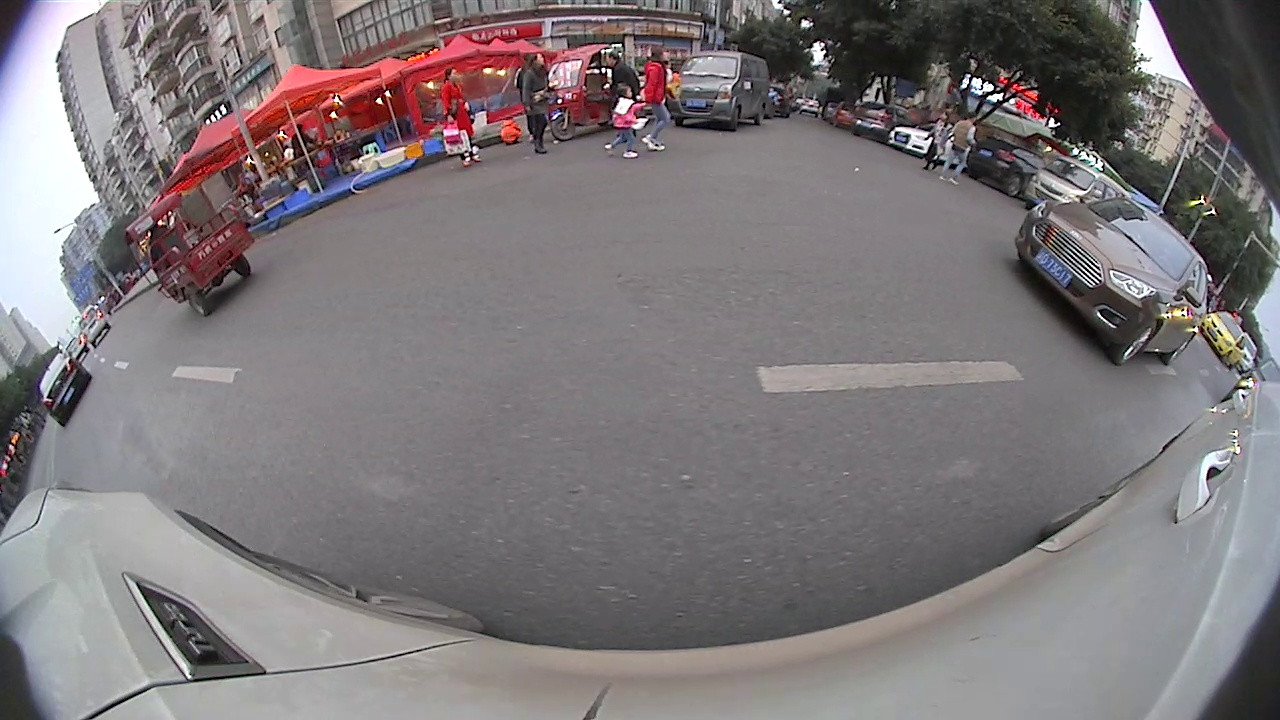car: (1012, 193, 1214, 366), (671, 50, 772, 130), (1026, 155, 1132, 220), (966, 128, 1045, 192), (888, 114, 977, 169), (36, 348, 96, 427), (849, 91, 913, 138), (74, 303, 114, 348)
front: (1111, 316, 1162, 370), (548, 109, 578, 142)
person: (600, 46, 641, 160), (441, 61, 476, 169), (520, 50, 552, 155), (645, 42, 674, 155), (948, 106, 980, 185), (932, 109, 951, 174)
rear: (182, 285, 210, 319)
rider: (120, 191, 258, 320)
